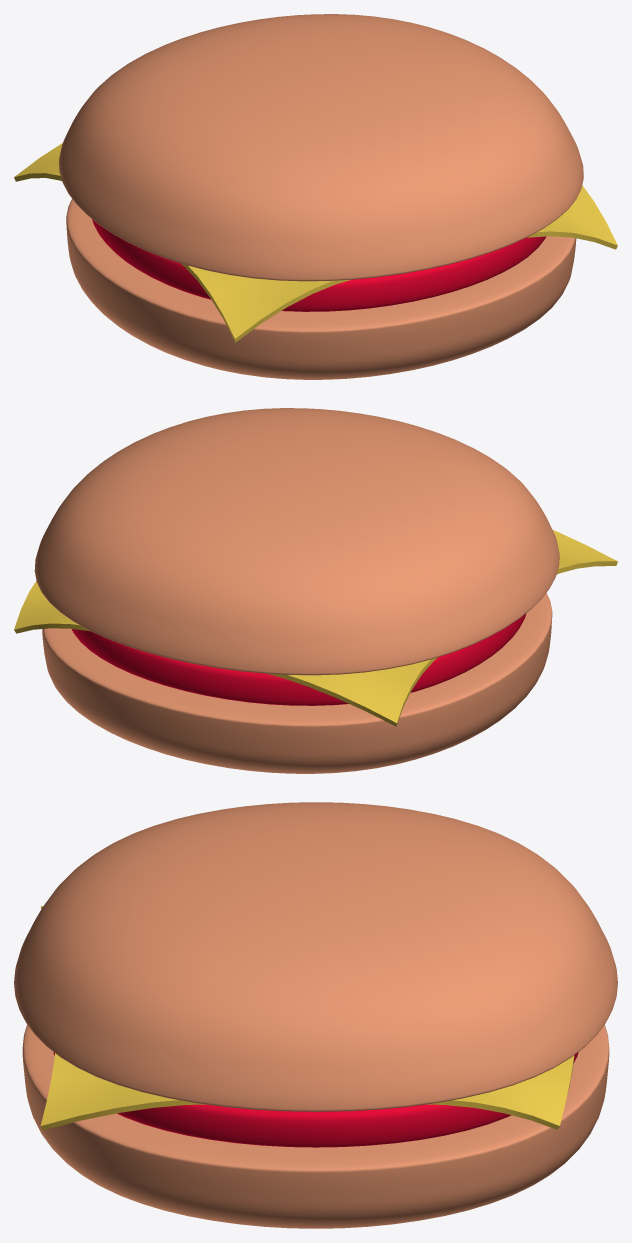
The model's file is hamburger.glb.
3 views of the same model, one above another, from view 1: azimuth 30°, elevation 25°; view 2: azimuth 150°, elevation 25°; view 3: azimuth 270°, elevation 25° (orthographic). The views are drawn at different scales.
Parts seen in each view (by area): view 1: Cube.002, Cube, Cube.001, Plane; view 2: Cube.002, Cube, Cube.001, Plane; view 3: Cube.002, Cube, Cube.001, Plane.
Part boxes in pixels (x1,y1,x2,y2): Cube.002: (59, 14, 583, 281); Cube: (66, 199, 576, 379); Cube.001: (92, 219, 546, 311); Plane: (14, 143, 617, 342); Cube.002: (34, 408, 559, 675); Cube: (42, 593, 552, 773); Cube.001: (71, 613, 526, 705); Plane: (14, 530, 617, 726); Cube.002: (14, 802, 617, 1111); Cube: (22, 1024, 609, 1228); Cube.001: (53, 1052, 578, 1147); Plane: (40, 906, 574, 1130).
Bounding box in the file's own units: 7.9 × 4 × 7.9.
